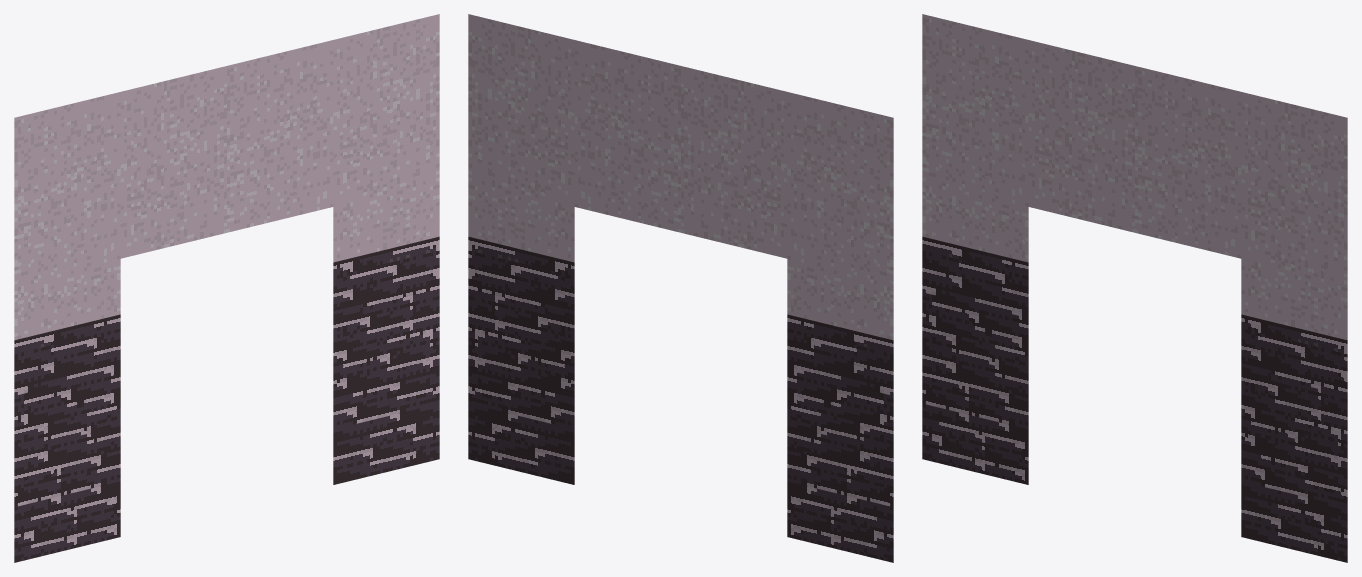
File: CafeteriaDoorWay.fbx
3 renders of one model, left to right at view 1: azimuth 30°, elevation 25°; view 2: azimuth 150°, elevation 25°; view 3: azimuth 330°, elevation 25°, orthographic.
Parts seen in each view (by area): view 1: Plane.014; view 2: Plane.014; view 3: Plane.014.
Part boxes in pixels (x1=…): Plane.014: x1=14, y1=14, x2=439, y2=562; Plane.014: x1=468, y1=14, x2=893, y2=562; Plane.014: x1=922, y1=14, x2=1347, y2=562.
Bounding box in the file's own units: 800 × 800 × 1.75e-05.
